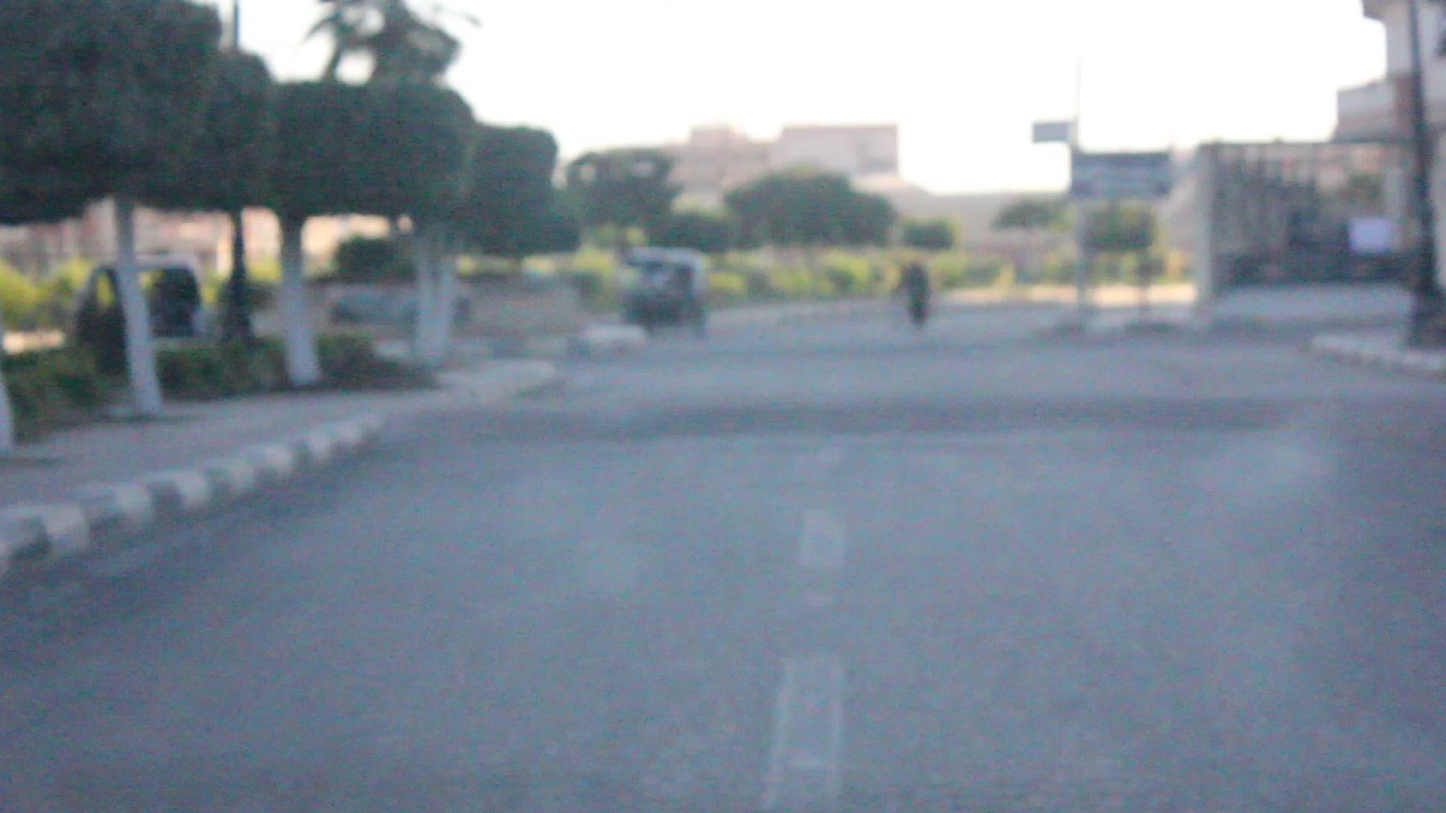Bump: (465, 399, 1438, 442)
